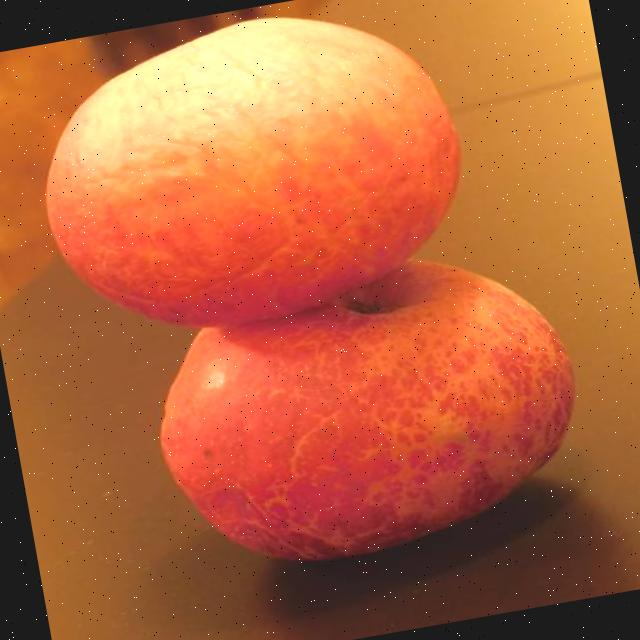overripe: (21, 0, 485, 353), (135, 246, 608, 590)
